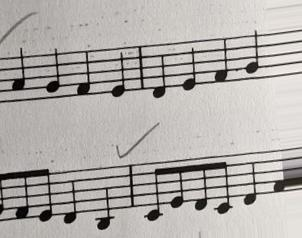note: (59, 167, 80, 228), (177, 39, 199, 93), (150, 41, 169, 101), (241, 151, 259, 207), (109, 45, 127, 99), (10, 47, 27, 104), (74, 48, 93, 99), (45, 45, 62, 101), (243, 27, 260, 83), (213, 35, 230, 86)
